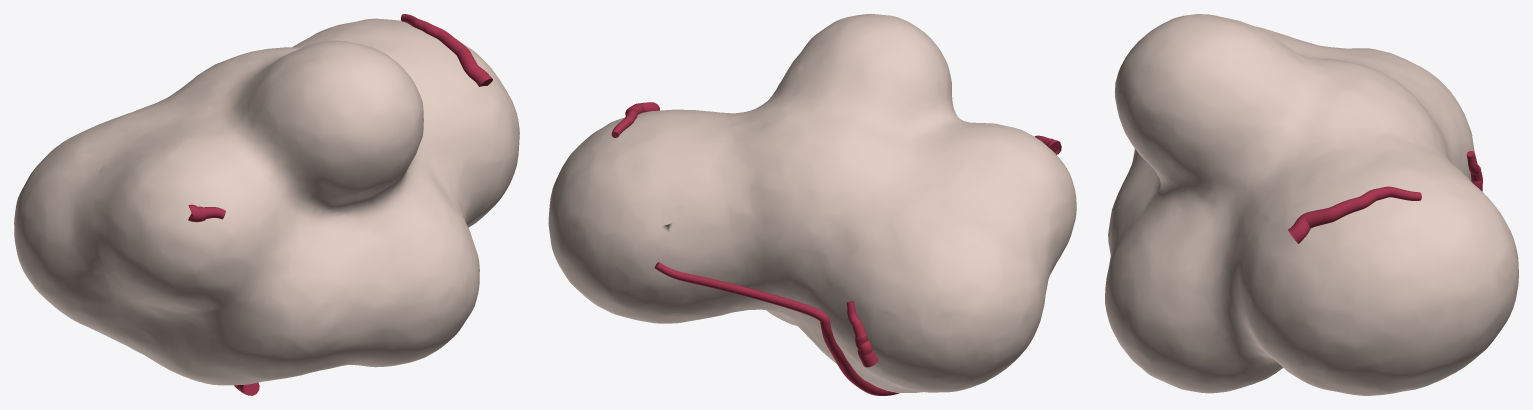
Rendered from tumor.glb.
The picture shows the model from 3 angles, left to right: view 1: azimuth 30°, elevation 25°; view 2: azimuth 150°, elevation 25°; view 3: azimuth 270°, elevation 25°; orthographic projection. The views are drawn at different scales.
Visible parts, largest first — view 1: Tumor, Vessels; view 2: Tumor, Vessels; view 3: Tumor, Vessels.
Boxes of the visible parts, <box> form: Tumor: <box>14,18,519,385</box>; Vessels: <box>188,14,492,395</box>; Tumor: <box>548,14,1076,392</box>; Vessels: <box>611,102,1061,395</box>; Tumor: <box>1105,14,1518,395</box>; Vessels: <box>1288,151,1482,243</box>.
Bounding box in the file's own units: 0.0436 × 0.0297 × 0.031.
